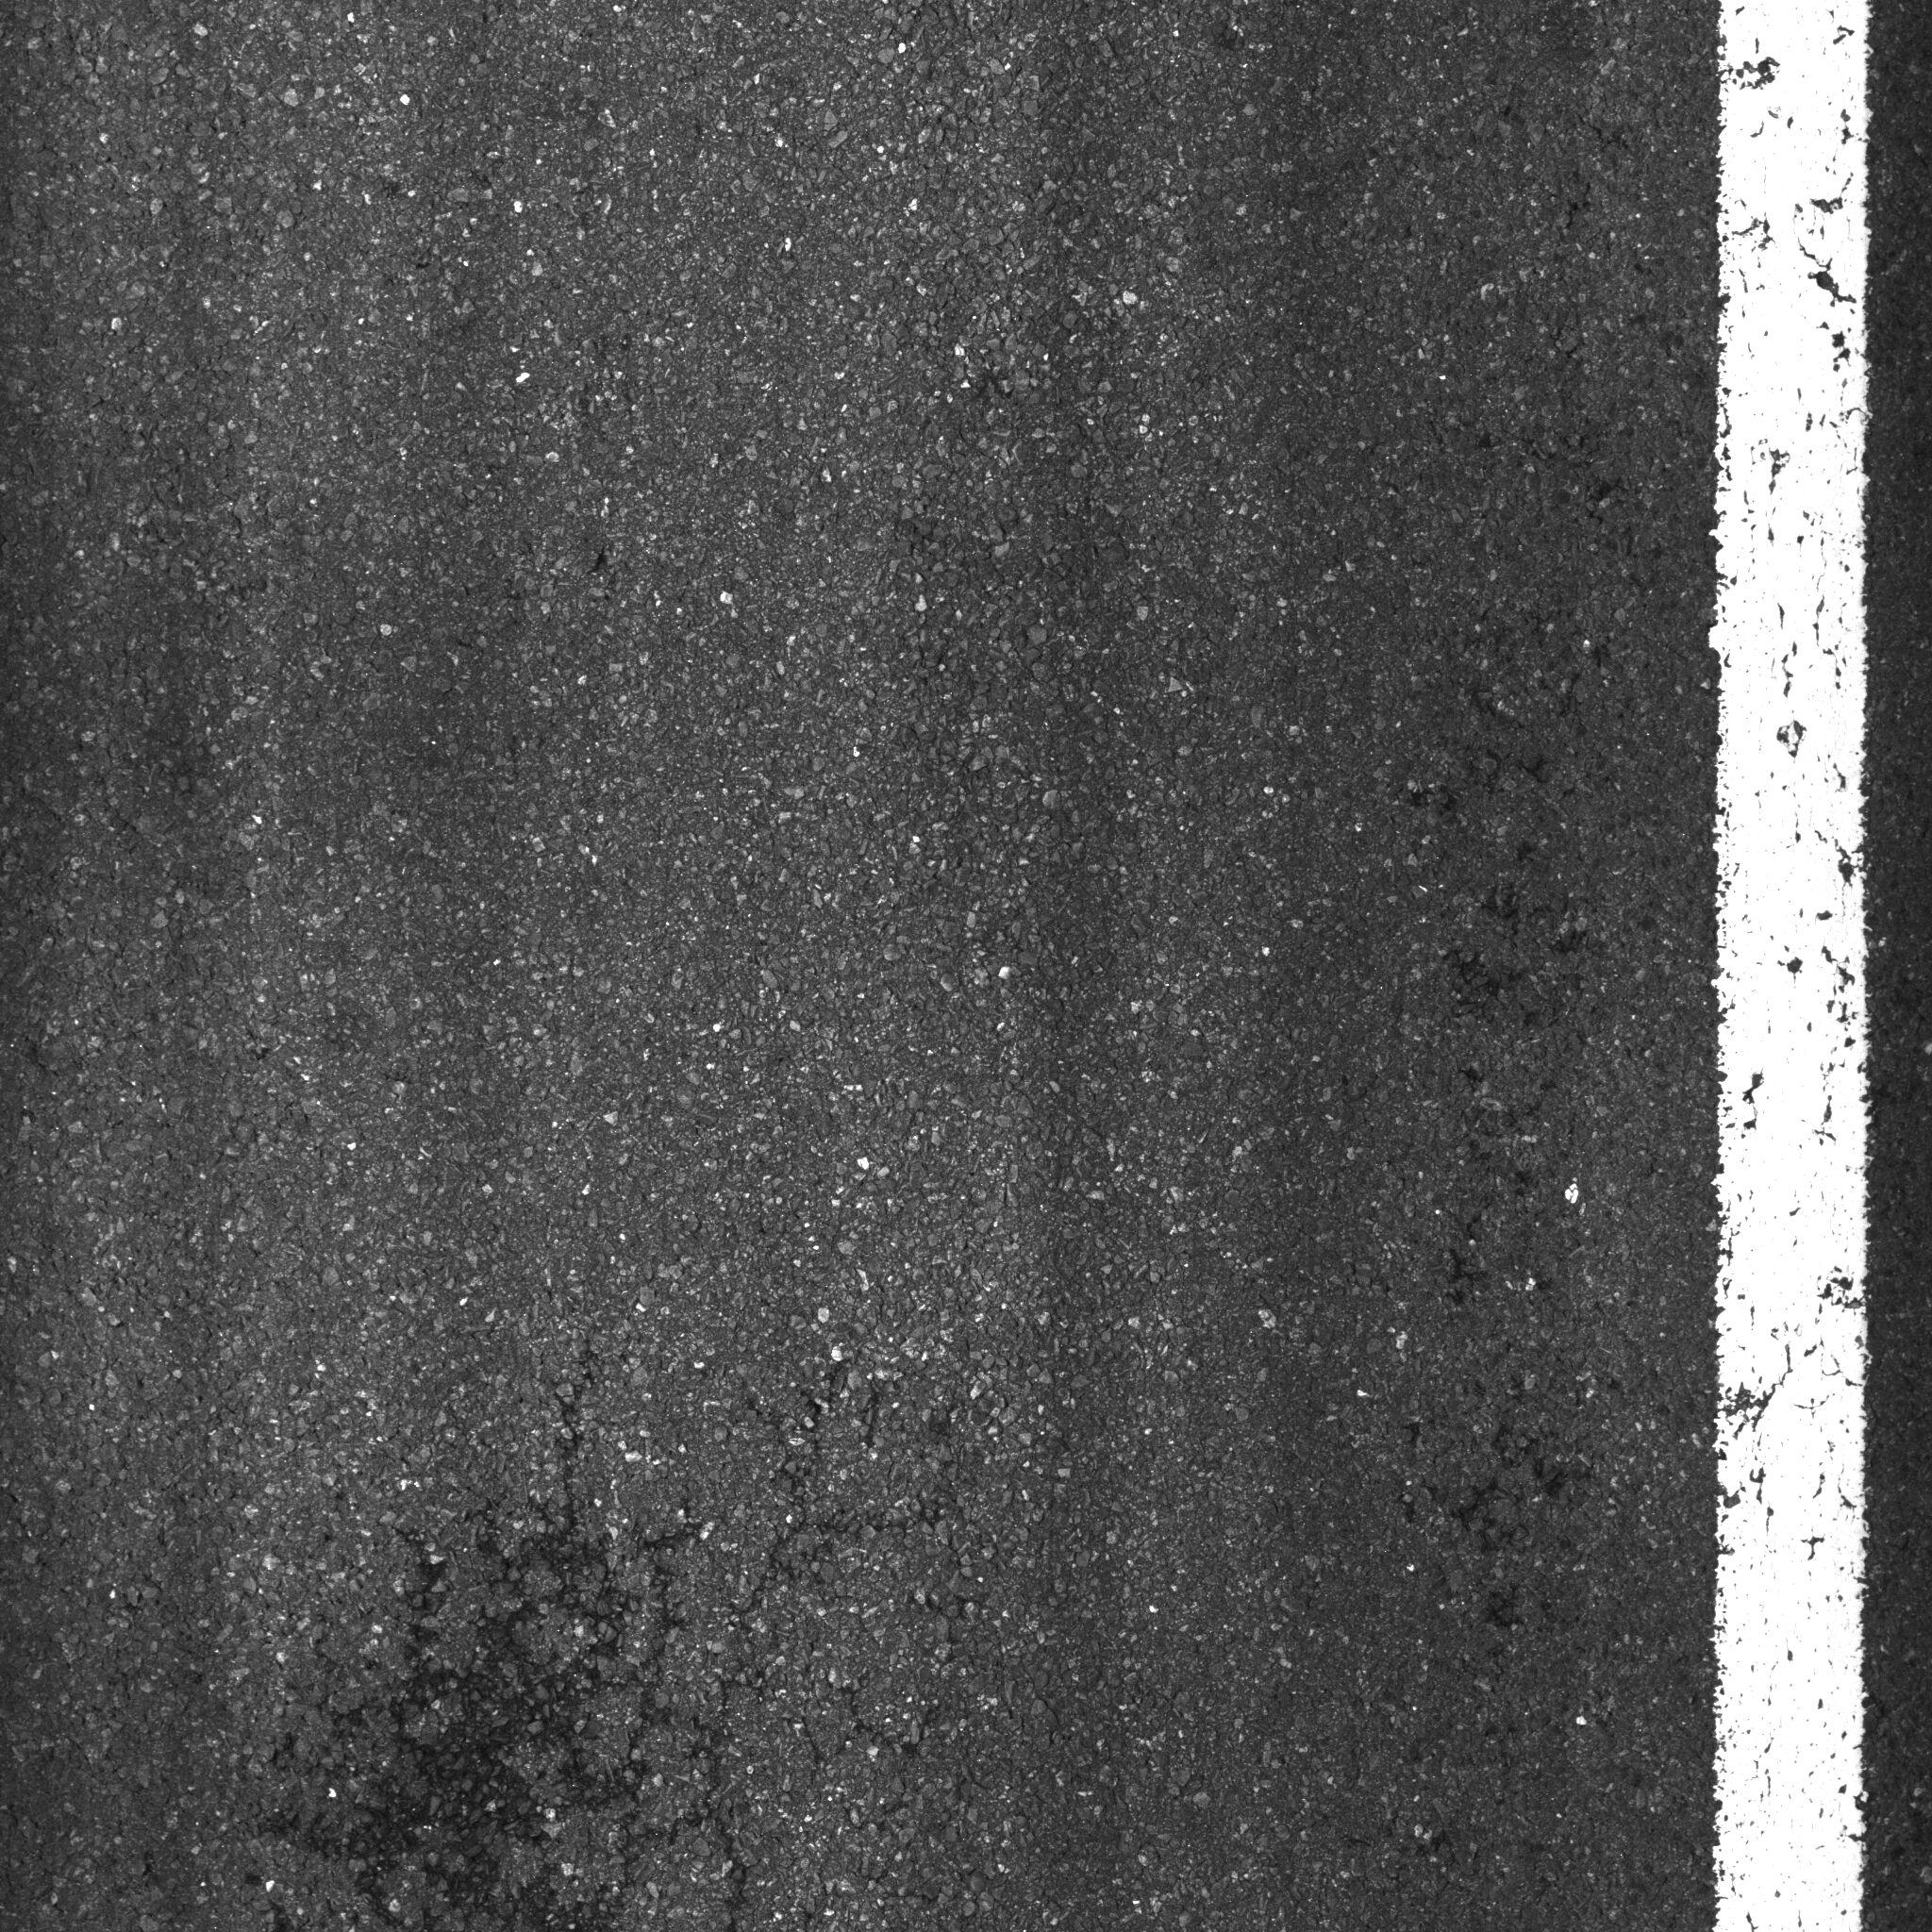alligator: (188, 1343, 931, 1932)
